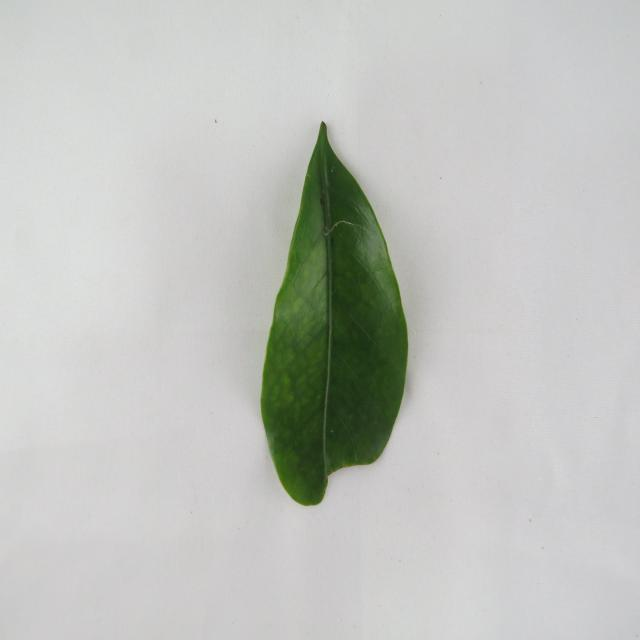DeficienciaNutricional-Boro: (261, 122, 408, 505)
